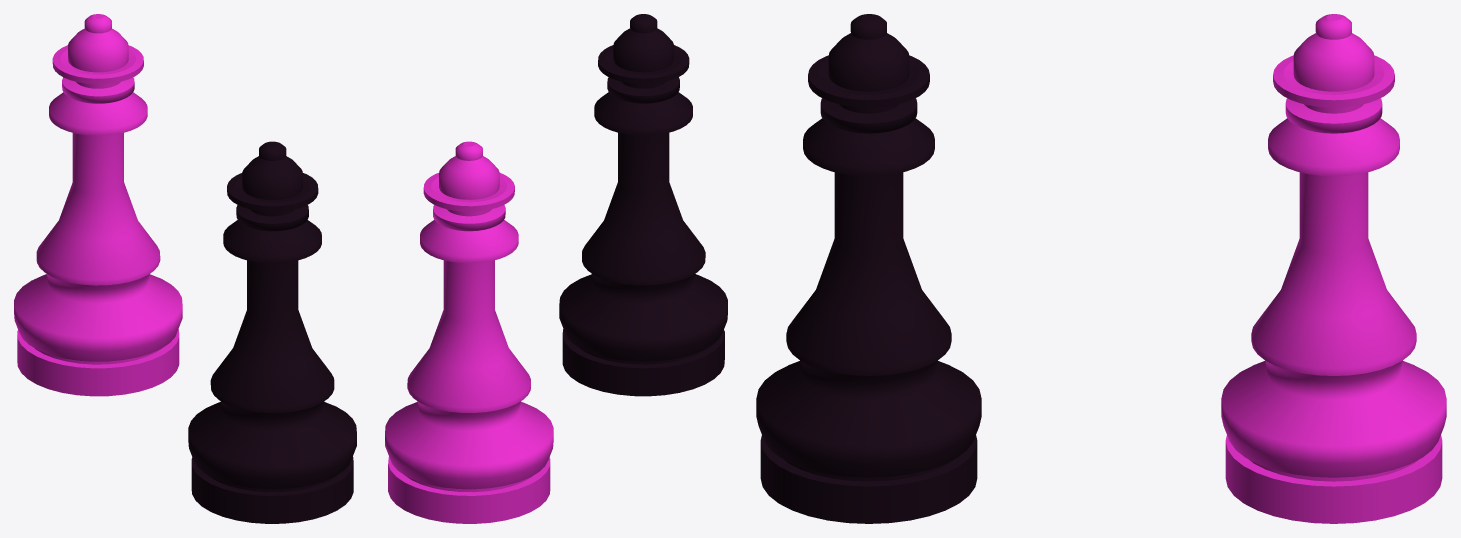
File: queen.fbx
3 renders of one model, left to right at view 1: azimuth 30°, elevation 25°; view 2: azimuth 150°, elevation 25°; view 3: azimuth 270°, elevation 25°, orthographic. The views are drawn at different scales.
Visible parts, largest first — view 1: Cylinder.002, Cylinder; view 2: Cylinder, Cylinder.002; view 3: Cylinder, Cylinder.002.
Part boxes in pixels (box(x1,y1,x2,y2)): Cylinder.002: box(14, 14, 182, 396); Cylinder: box(188, 141, 356, 523); Cylinder: box(559, 14, 727, 396); Cylinder.002: box(385, 141, 553, 523); Cylinder: box(756, 14, 981, 523); Cylinder.002: box(1221, 14, 1446, 523).
Size of the model in its own units: 194 by 437 by 594.
